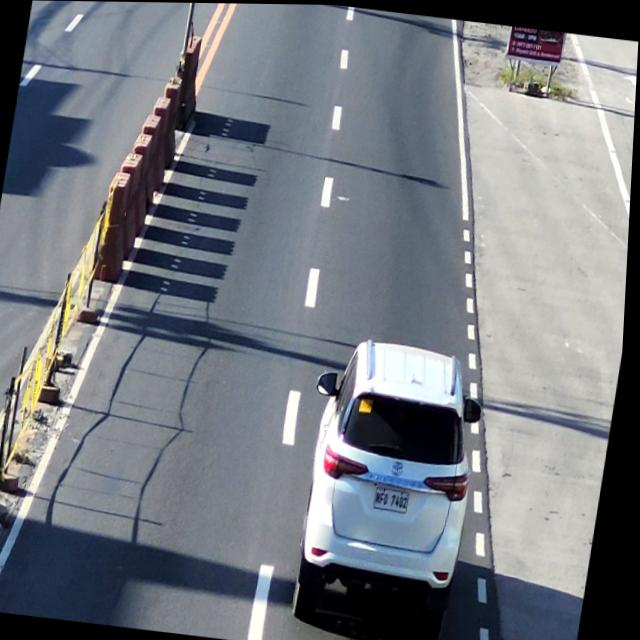Car: (295, 334, 494, 636)
License-Plate: (378, 484, 417, 514)
